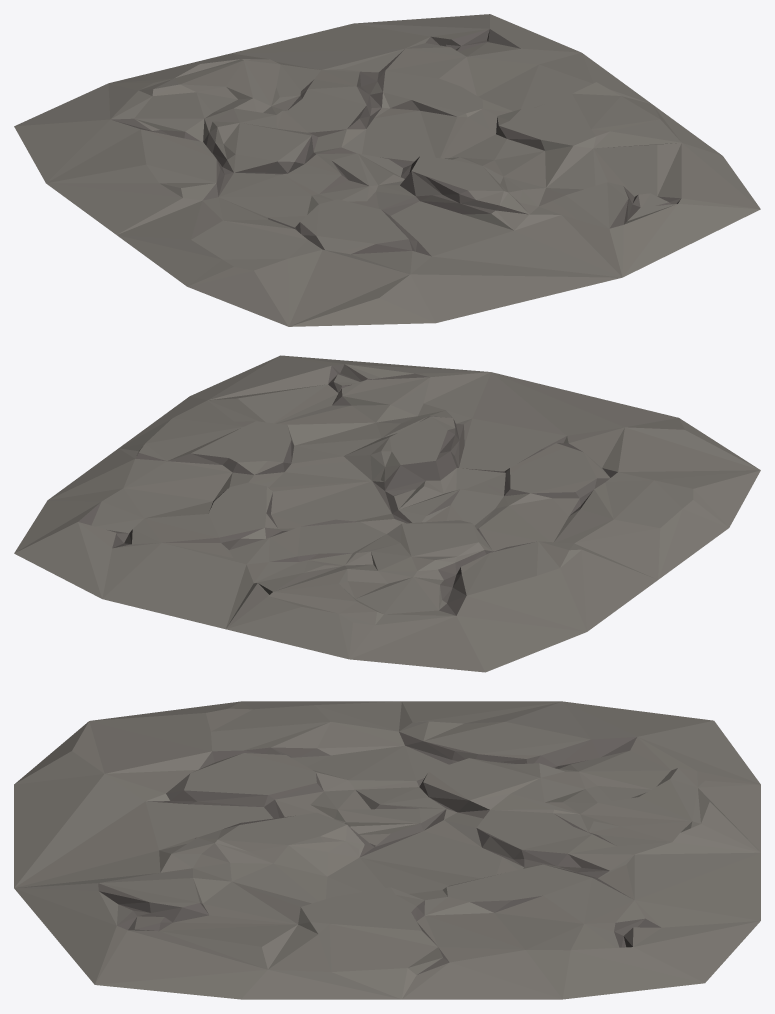
The model's file is SM_Env_CrackedRock_01.glb.
3 views of the same model, one above another, from view 1: azimuth 30°, elevation 25°; view 2: azimuth 150°, elevation 25°; view 3: azimuth 270°, elevation 25° (orthographic). The views are drawn at different scales.
Parts seen in each view (by area): view 1: SM_Env_CrackedRock_01; view 2: SM_Env_CrackedRock_01; view 3: SM_Env_CrackedRock_01.
Boxes of the visible parts, <box> form: SM_Env_CrackedRock_01: <box>14,14,760,326</box>; SM_Env_CrackedRock_01: <box>14,355,760,672</box>; SM_Env_CrackedRock_01: <box>14,701,760,999</box>.
Size of the model in its own units: 0.1185 by 0.00598 by 0.1255.
1 material, 1 textured.
